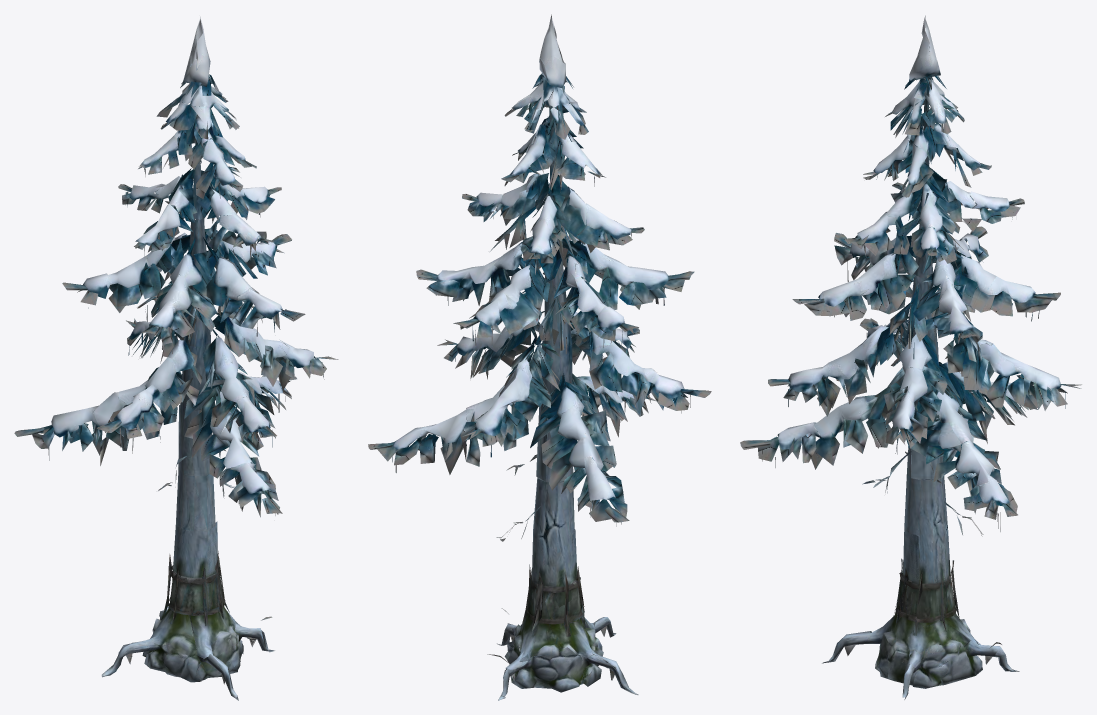
File: snowpine.glb
3 views of the same model, side by side, from view 1: azimuth 30°, elevation 25°; view 2: azimuth 150°, elevation 25°; view 3: azimuth 270°, elevation 25° (orthographic).
Parts seen in each view (by area): view 1: snowpine_p2; view 2: snowpine_p2; view 3: snowpine_p2.
Part boxes in pixels (x1=…): snowpine_p2: x1=14, y1=16, x2=338, y2=700; snowpine_p2: x1=368, y1=14, x2=711, y2=700; snowpine_p2: x1=740, y1=15, x2=1081, y2=699.
Size of the model in its own units: 0.4353 by 1 by 0.4738.
2 materials, 2 textured.
